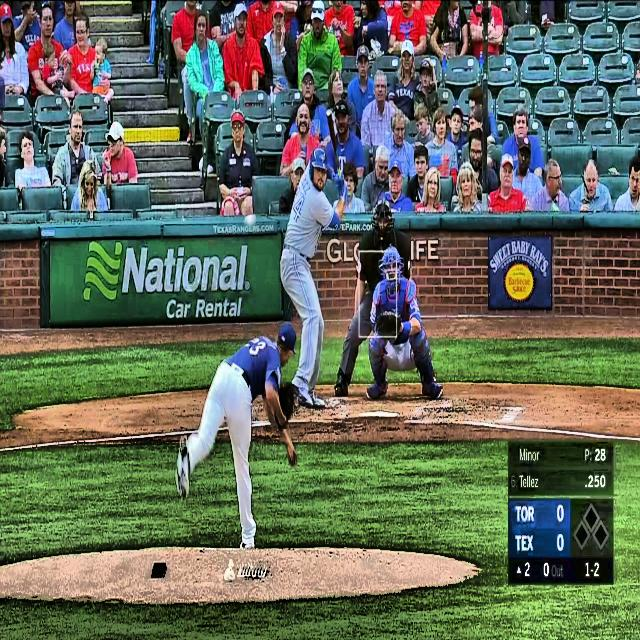baseball: (244, 214, 256, 228)
